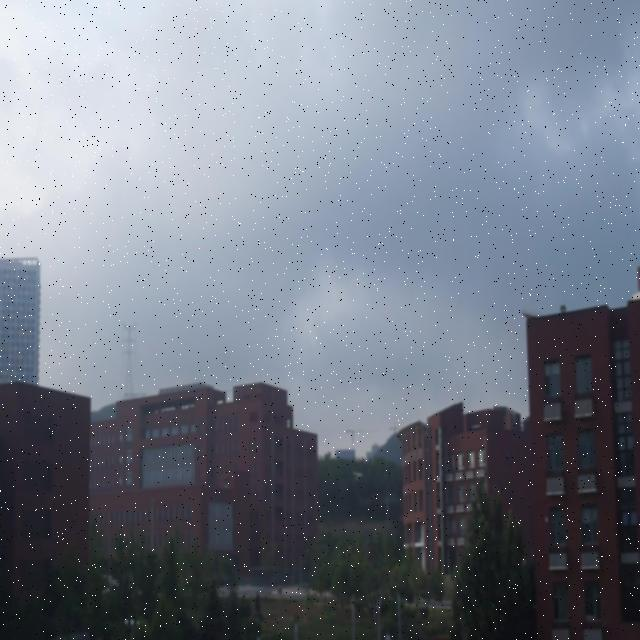UAV: (352, 471, 363, 481)
